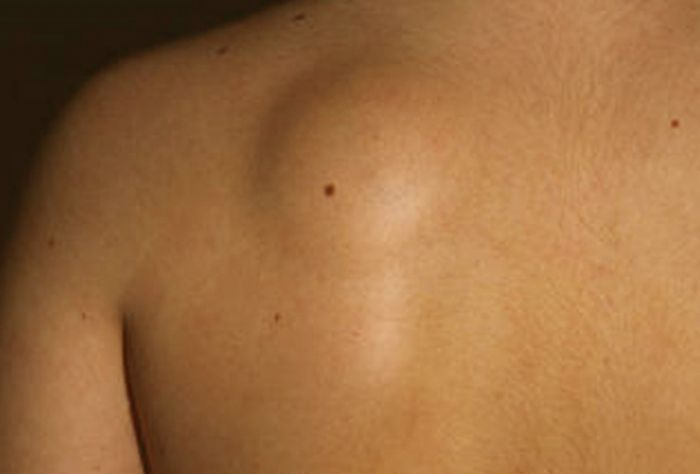mole: (262, 303, 287, 329), (663, 111, 686, 139), (284, 4, 312, 26), (318, 177, 343, 201), (209, 40, 234, 63)
